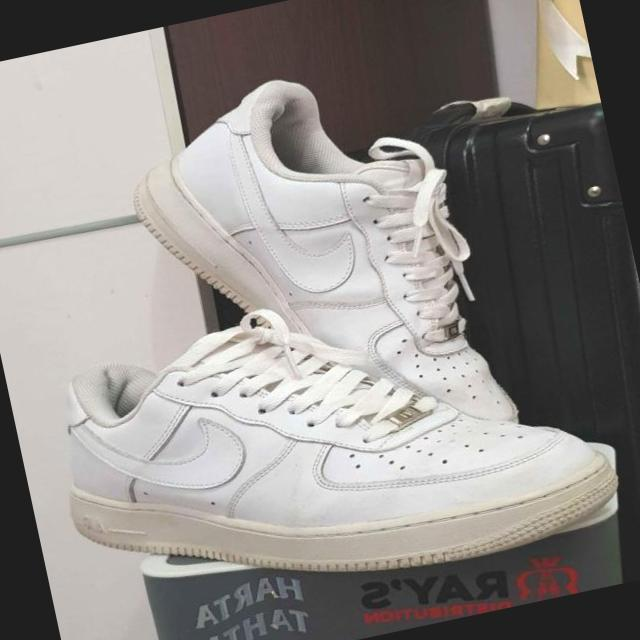nike_original_airforce: (30, 252, 629, 640), (112, 46, 532, 512)
